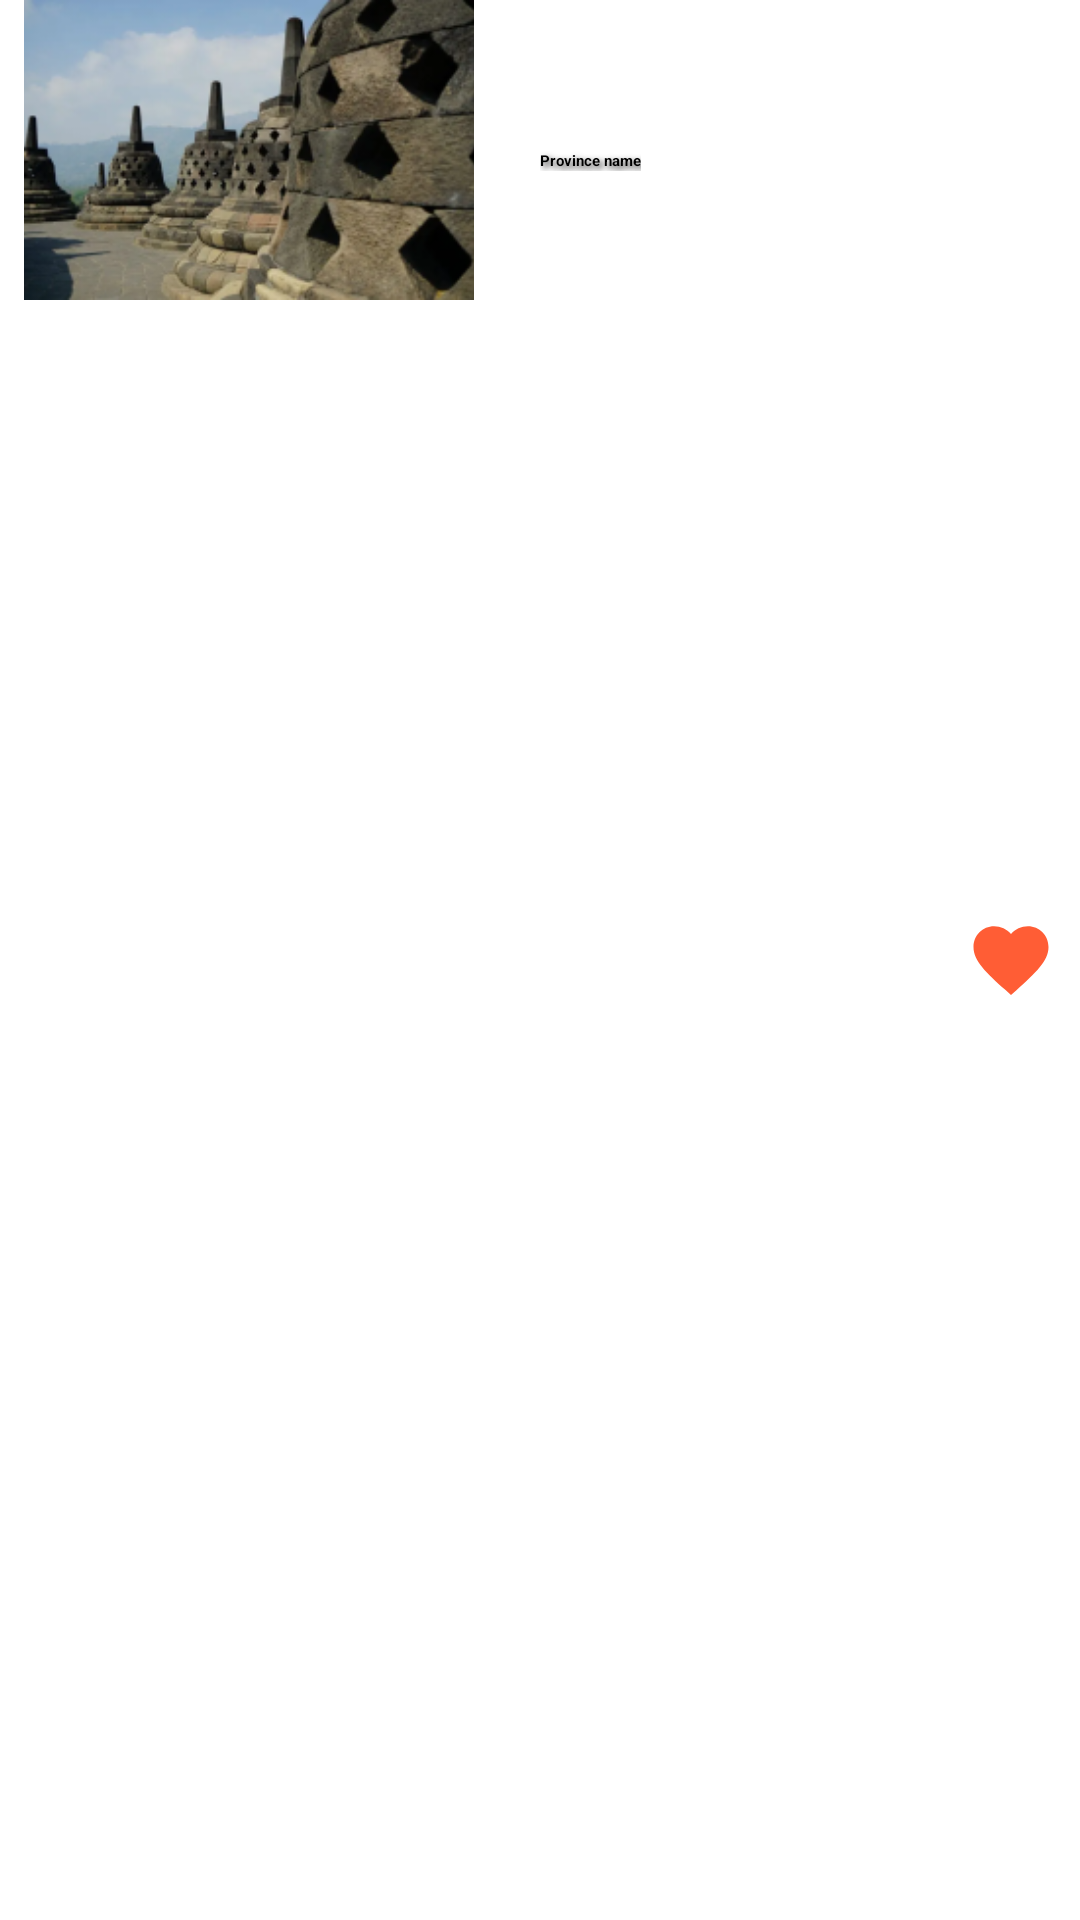

Screen size 1080x1920. Icon name, then its center in pixels as (x=x, y=y):
favorite: (x=1011, y=960)
